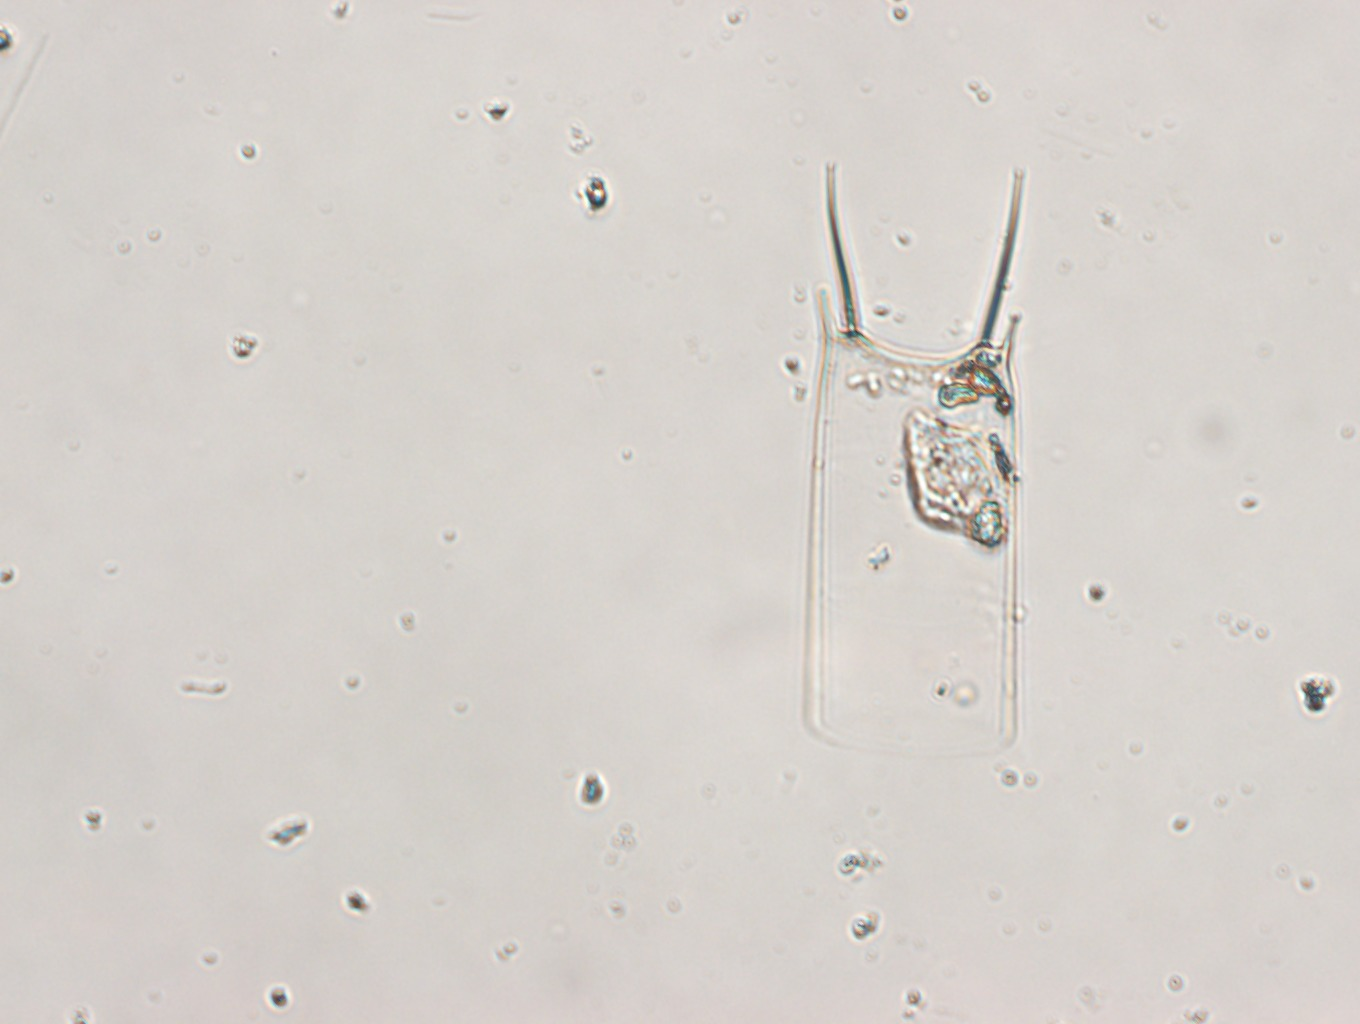biddulphia: (801, 153, 1030, 748)
